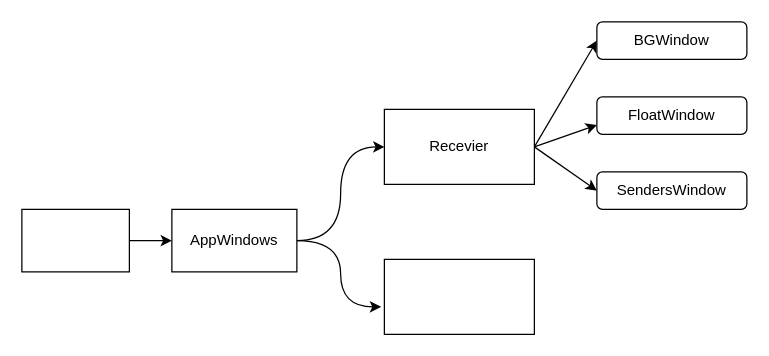
Some shapes in this 769 by 356 pixel diagram are drawn without their labels. Here are the shapes that lost their labels. From the top down, the centre of each, then its label:
point 75,240: AppMain
point 458,296: Sender
